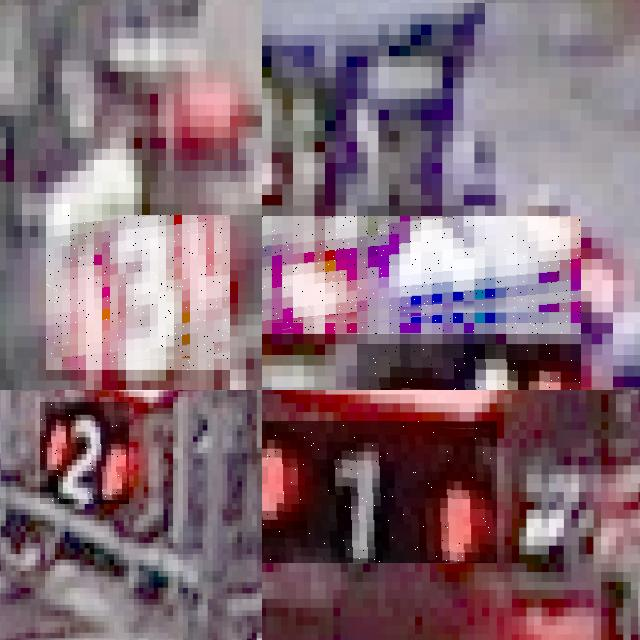R1: (262, 421, 497, 563)
R2: (40, 402, 129, 504)
R3: (46, 215, 230, 370)
R4: (262, 216, 581, 333), (357, 344, 581, 390)
